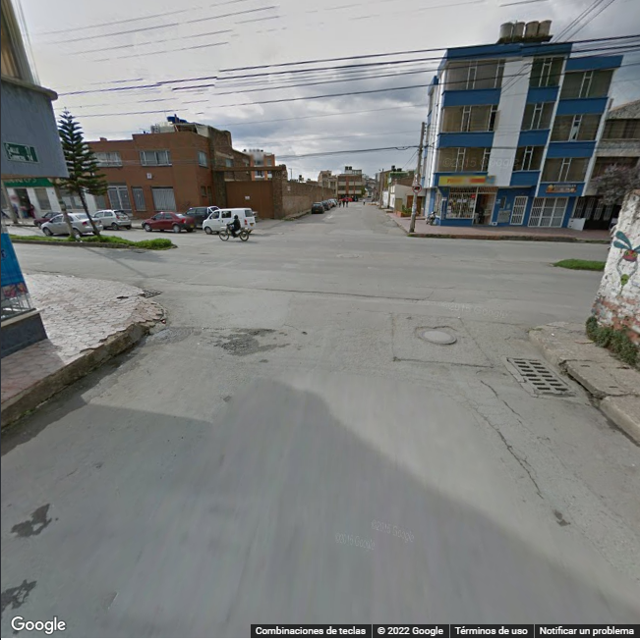D00: (467, 400, 555, 502), (476, 373, 523, 415)
